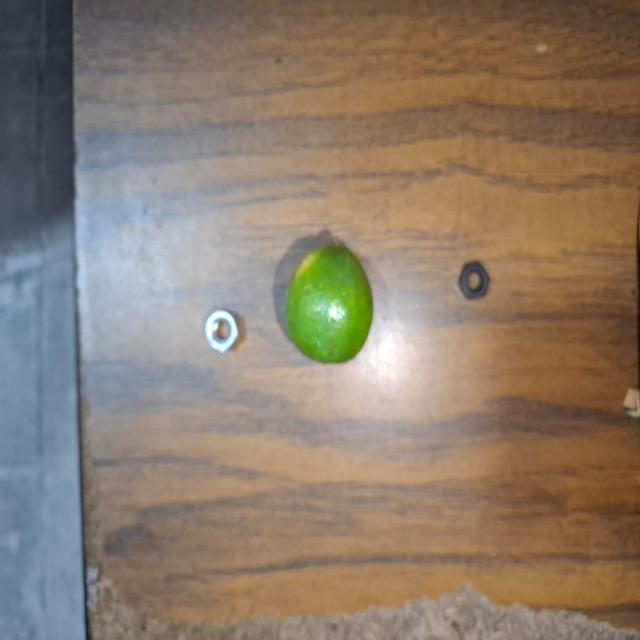limon: (286, 237, 378, 362)
milimetrico: (458, 258, 493, 308)
tuerca: (202, 308, 247, 360)
